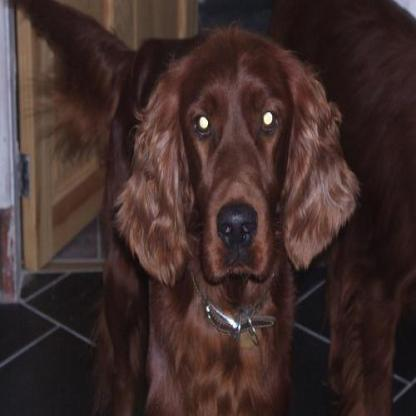Irish_setter: (7, 0, 357, 414)
